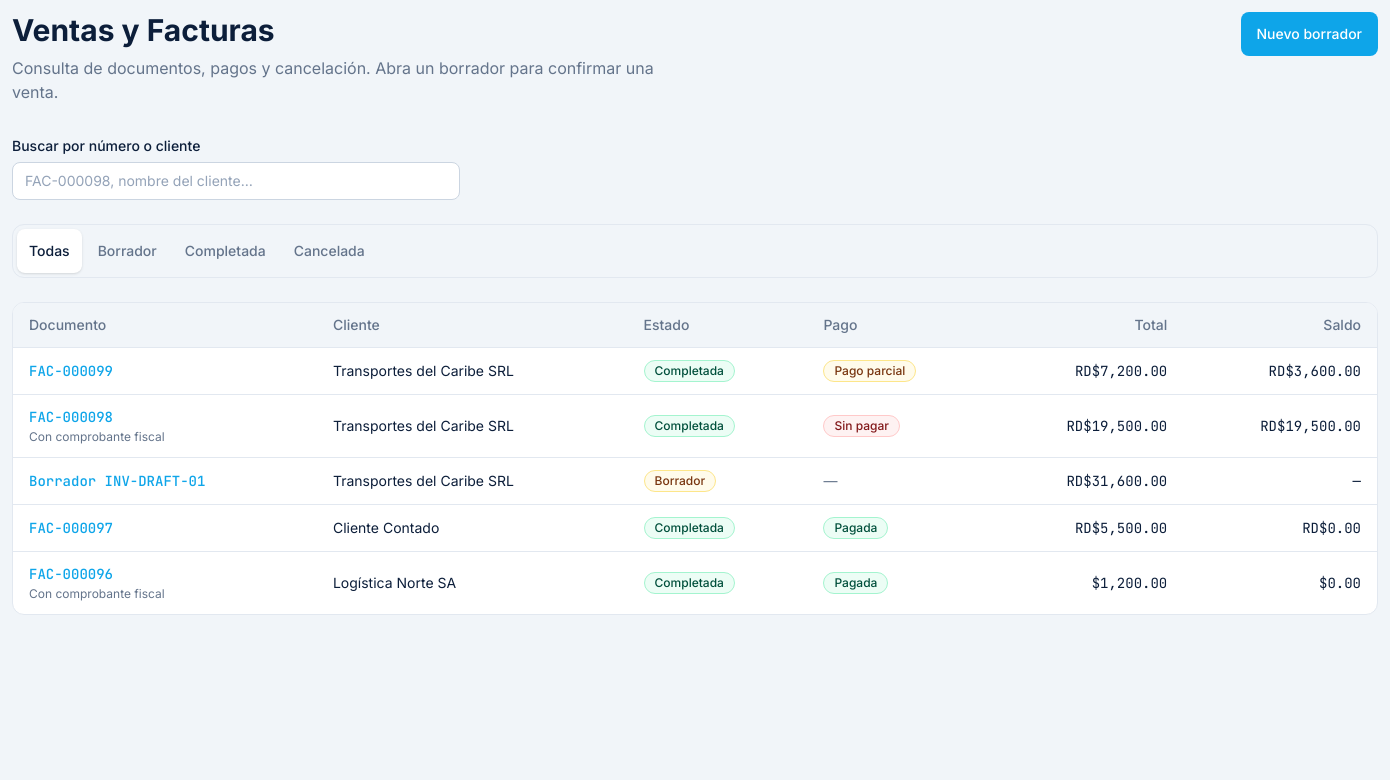
Scenario: SalesPage › filters the list by invoice number so a previous sale can be found
This screenshot has width=1390, height=780.
expect the text "FAC-000098" is shown: met, box [29,408,113,426]
Step 1. Type "FAC-000099" into the search field labelled "Buscar por número o cliente" → (236, 181), box [12,162,460,200]
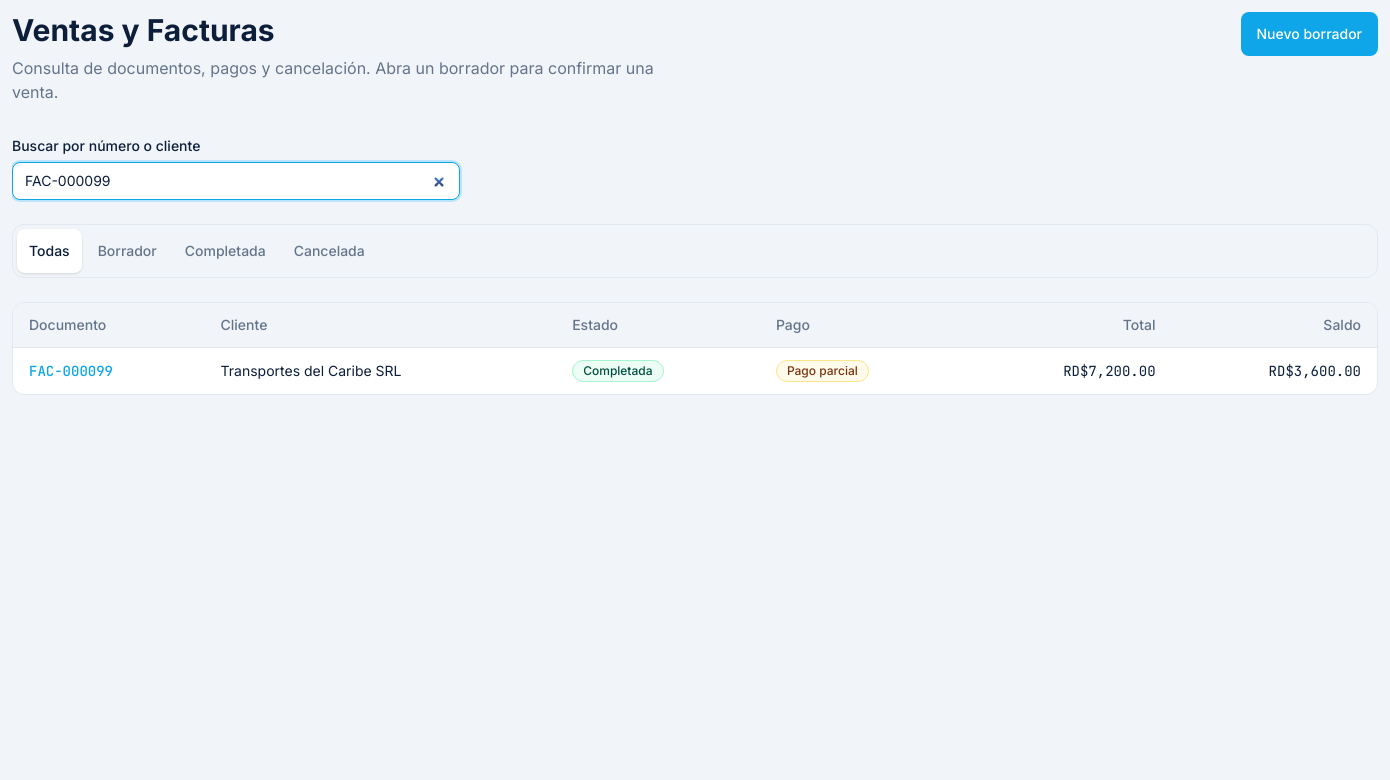
expect the text "FAC-000099" is shown: met, box [29,362,113,380]
expect the link "FAC-000098" is gone: met
